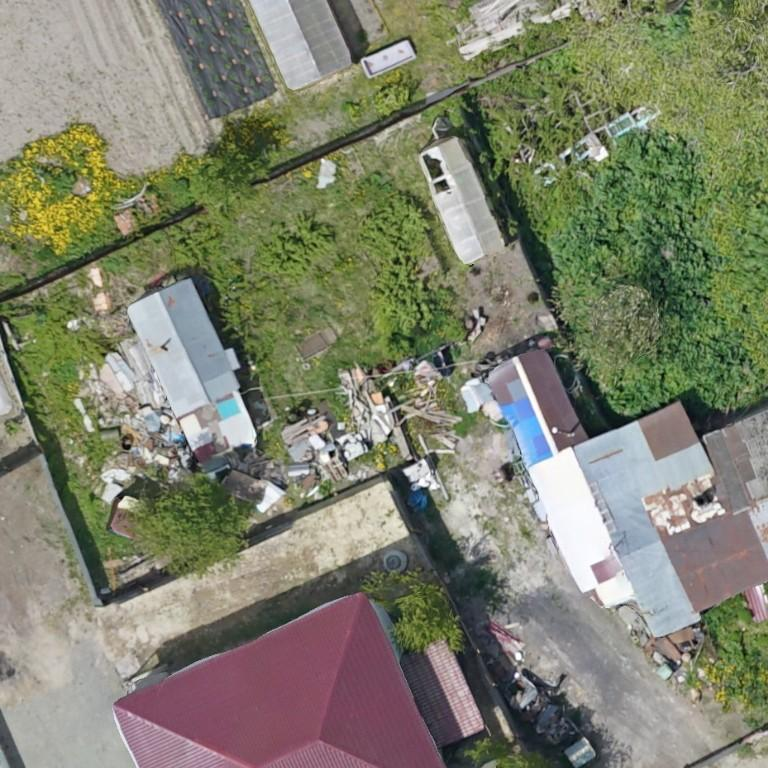hogweed: (548, 129, 761, 430), (703, 595, 750, 632)
